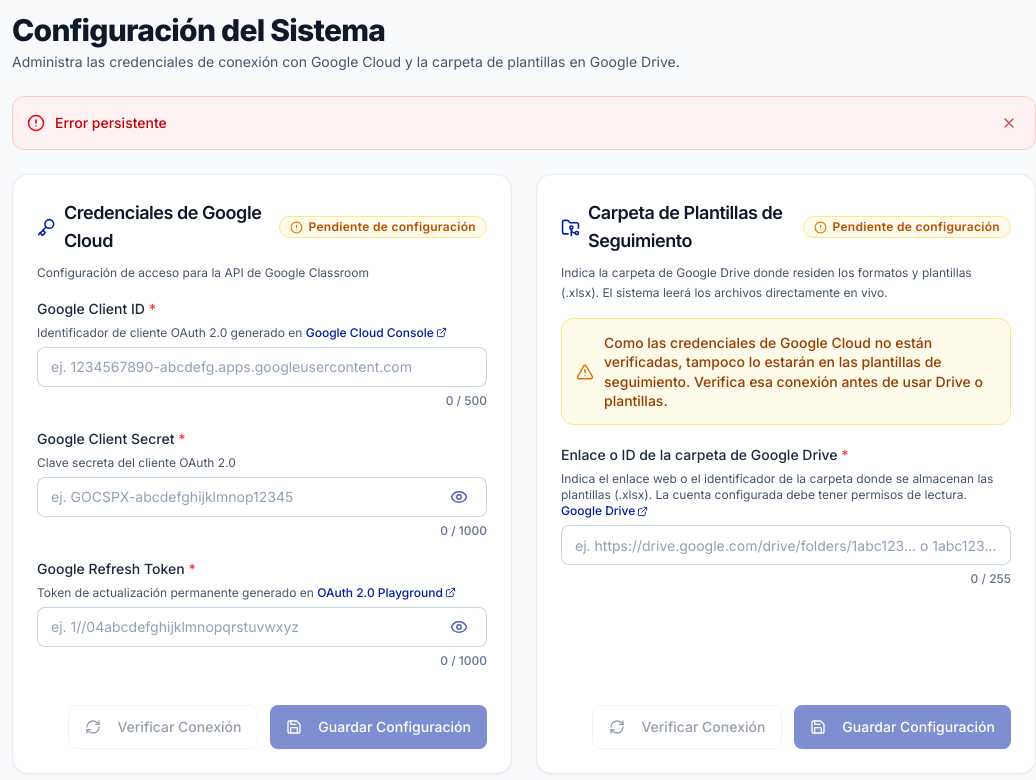
ConfiguracionPage › muestra alerta de error y permite cerrarla cuando cargado es true
Expected: the text "Error persistente" is shown, [55,113,167,133]
Click the button named "Cerrar notificación": click(1009, 123) [997,111,1021,135]
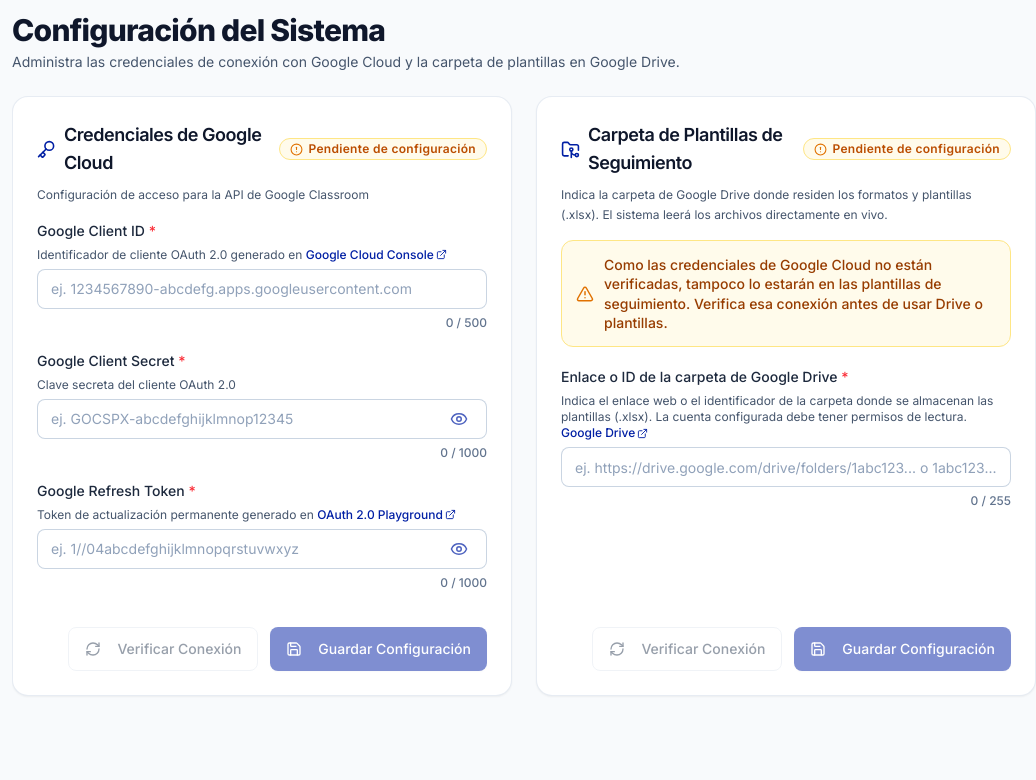
Result: the text "Error persistente" is gone
